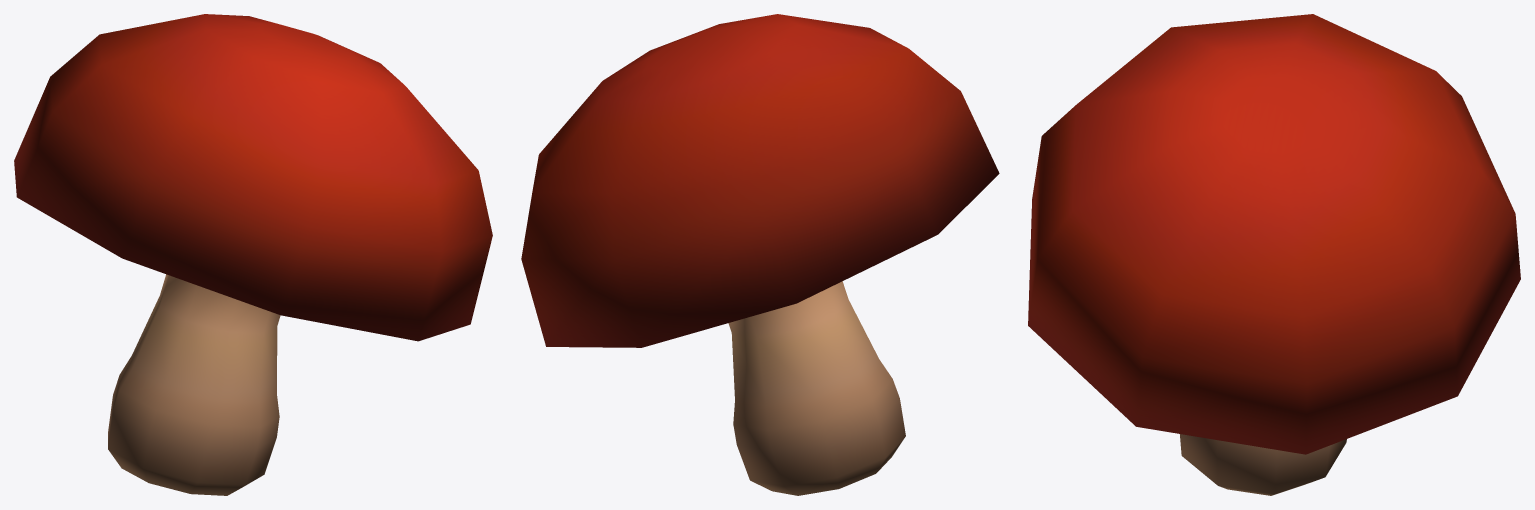
The model's file is Mushroom_1.fbx.
3 renders of one model, left to right at view 1: azimuth 30°, elevation 25°; view 2: azimuth 150°, elevation 25°; view 3: azimuth 270°, elevation 25°, orthographic. The views are drawn at different scales.
Parts seen in each view (by area): view 1: Mushroom_1; view 2: Mushroom_1; view 3: Mushroom_1.
Part boxes in pixels (<box>): Mushroom_1: <box>14,14,492,495</box>; Mushroom_1: <box>521,14,999,495</box>; Mushroom_1: <box>1028,14,1520,495</box>.
Size of the model in its own units: 41.69 by 41.97 by 41.86.
